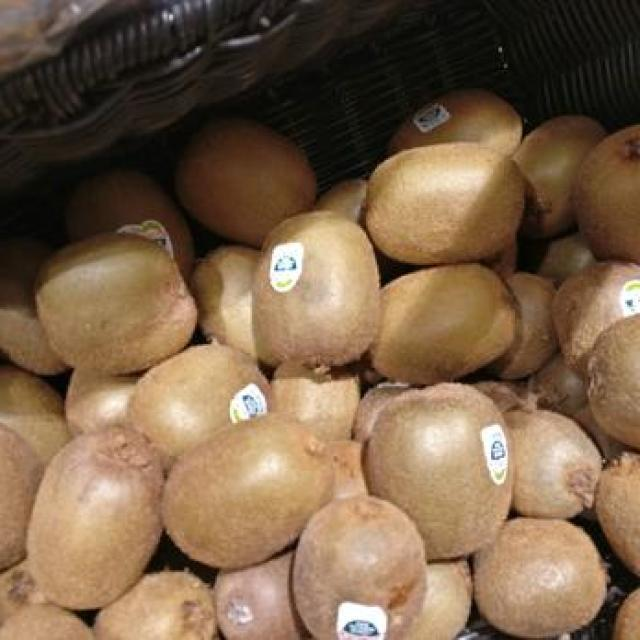kiwi: (162, 414, 331, 569), (365, 384, 511, 559), (28, 428, 161, 609), (38, 234, 196, 373), (254, 210, 379, 366), (292, 495, 425, 640), (368, 142, 524, 264), (176, 119, 316, 246), (372, 264, 515, 383), (129, 345, 270, 459), (475, 519, 606, 637), (65, 170, 194, 278), (512, 118, 606, 238), (530, 354, 629, 459), (504, 412, 601, 518), (551, 262, 640, 372), (575, 125, 640, 263), (390, 89, 521, 154), (96, 571, 213, 640), (216, 551, 302, 639), (192, 246, 260, 357), (0, 366, 71, 464), (491, 272, 556, 379), (588, 315, 639, 448), (271, 365, 359, 441), (0, 424, 44, 569), (404, 559, 472, 640), (595, 452, 640, 574), (65, 370, 139, 434), (0, 308, 68, 375), (0, 604, 95, 639), (354, 382, 408, 442), (539, 232, 596, 287), (0, 560, 48, 624), (328, 441, 368, 498), (316, 179, 366, 222), (474, 382, 525, 412), (612, 589, 640, 639)
